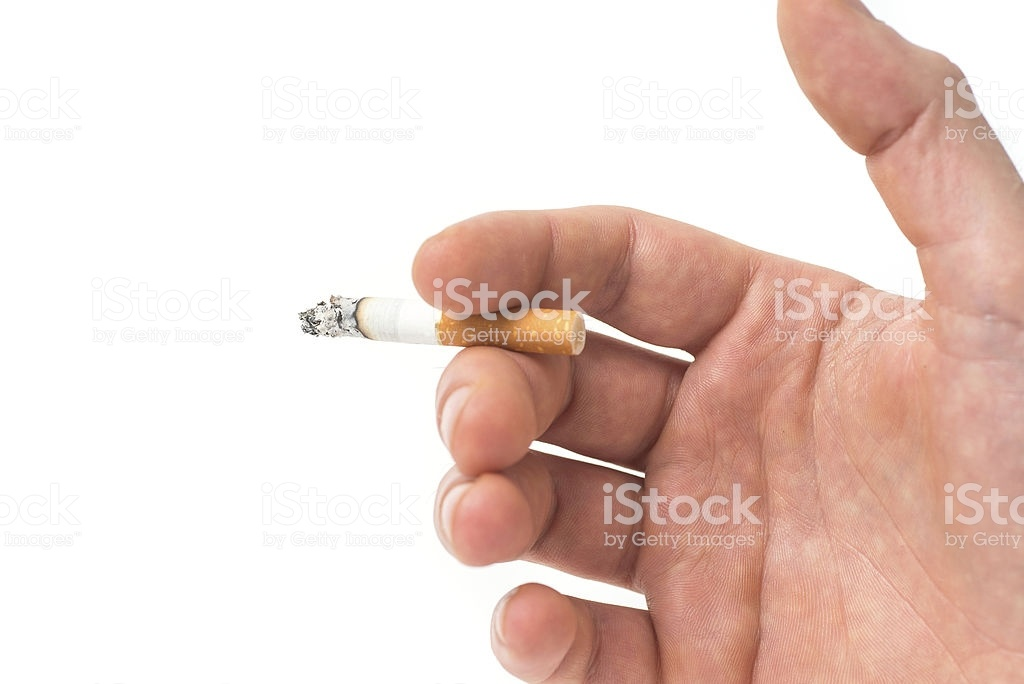sigaretta: (296, 288, 596, 353)
